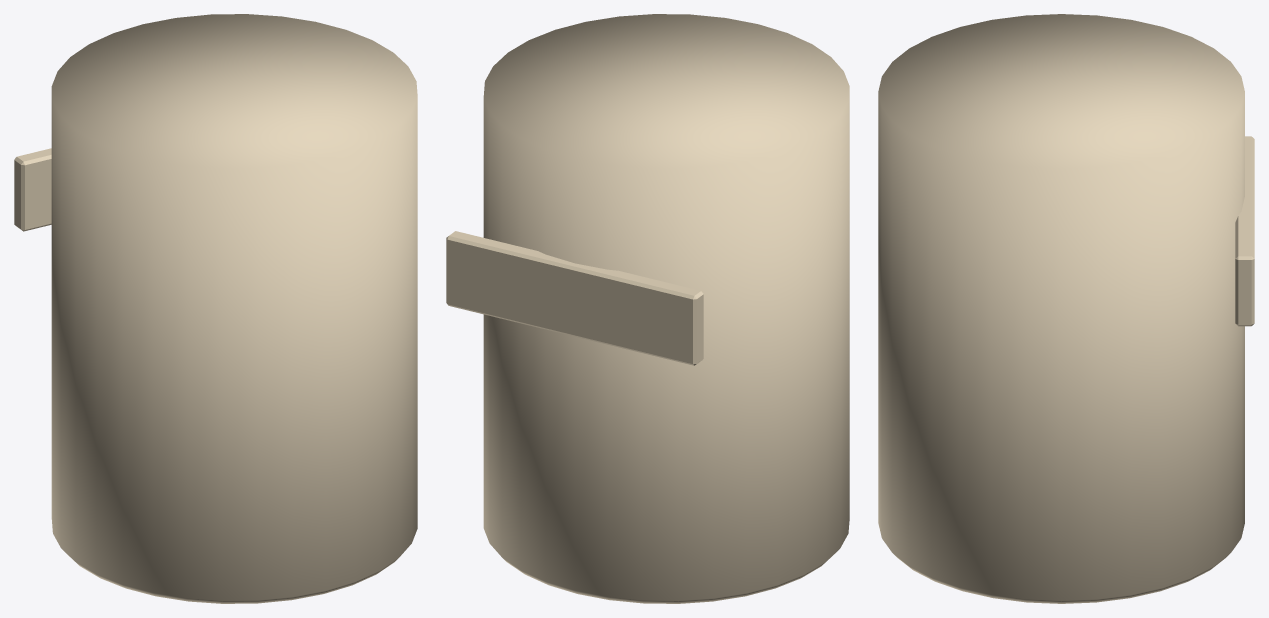
Rendered from a_hood_cyl_3.glb.
3 renders of one model, left to right at view 1: azimuth 30°, elevation 25°; view 2: azimuth 150°, elevation 25°; view 3: azimuth 270°, elevation 25°, orthographic.
Visible parts, largest first — view 1: o, o.002; view 2: o, o.002; view 3: o, o.002.
Boxes of the visible parts, x1,y1,x2,y2 form: o: (51, 14, 417, 603); o.002: (14, 148, 51, 231); o: (483, 14, 849, 603); o.002: (446, 231, 703, 365); o: (878, 14, 1244, 603); o.002: (1235, 136, 1254, 326).
Size of the model in its own units: 0.38 by 0.502 by 0.39.
